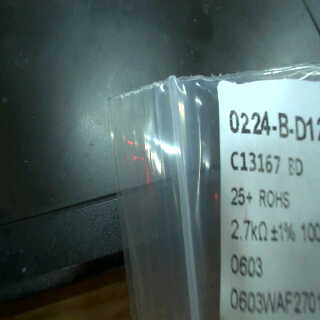2.7kR: (225, 214, 270, 248)
